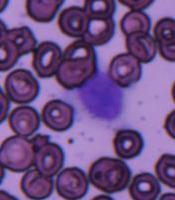L: (76, 70, 126, 123)
